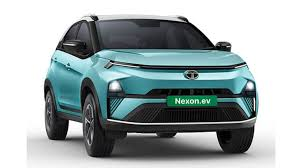Tata Nexon: (42, 13, 259, 158)
